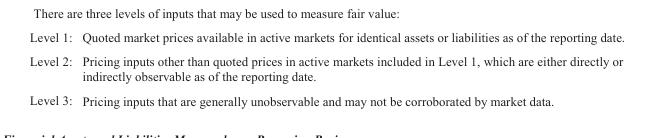table: (28, 29, 624, 107)
table column: (76, 29, 624, 107), (28, 29, 76, 107)
table row: (28, 48, 624, 87), (28, 87, 624, 107), (28, 29, 624, 48)
